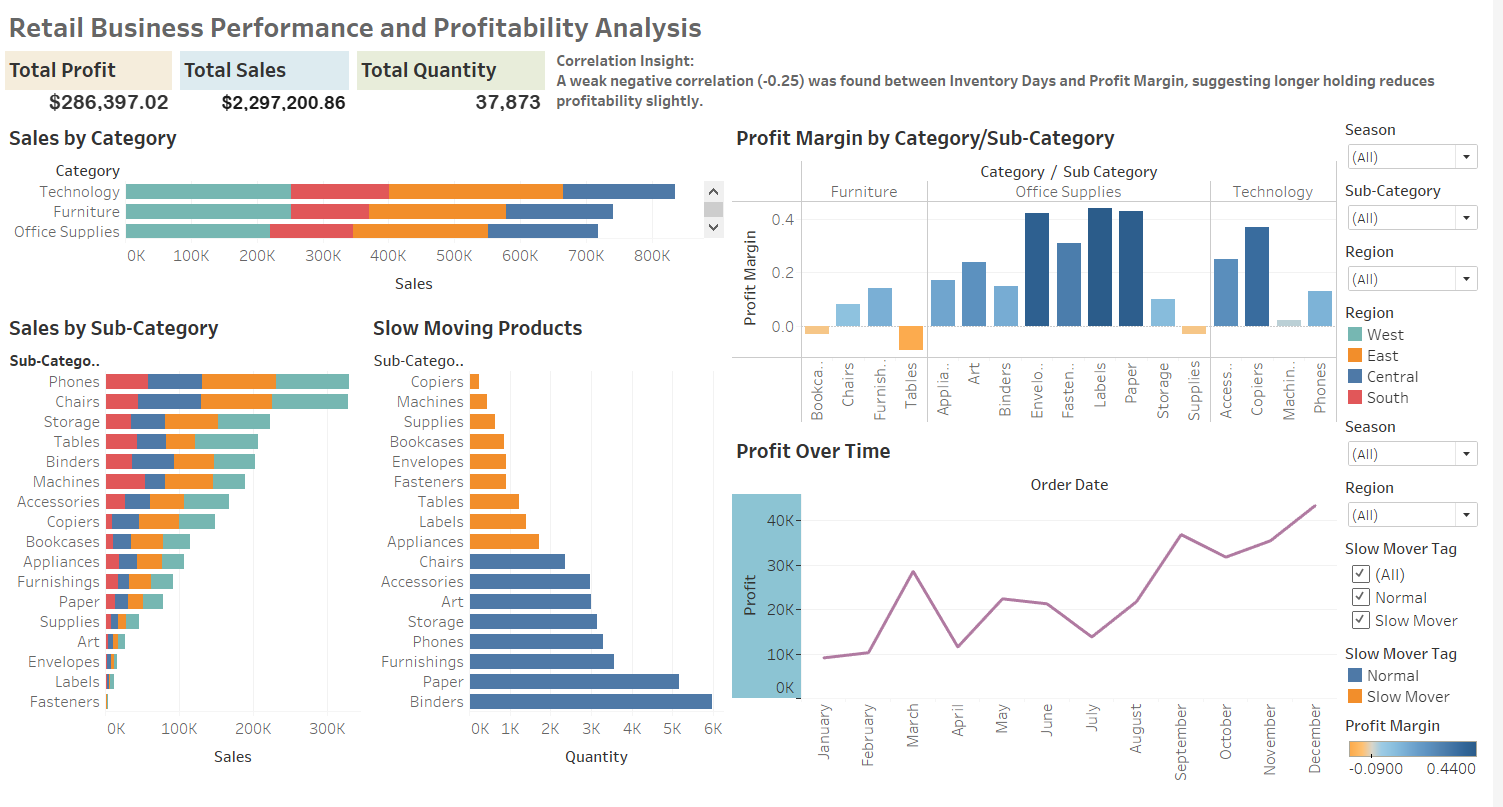

Layout of this report page (visuals, bound fields, positions):
{"tool":"tableau","page":{"name":"Dashboard 1","canvas":[1000,1000],"units":"permille","ordinal":0},"visuals":[{"type":"text","box":[5.3,9.8,989.3,50.5]},{"type":"worksheet","title":"Total Profit","mark":"Automatic","box":[5.3,60.3,116.7,83.8]},{"type":"worksheet","title":"Total Sales","mark":"Automatic","box":[122,60.3,118,83.8]},{"type":"worksheet","title":"Quantity","mark":"Automatic","box":[240,60.3,130.7,83.8]},{"type":"text","box":[370.7,60.3,624,83.8]},{"type":"worksheet","title":"Sales by Category","mark":"Automatic","rows":["Category"],"cols":["Sales"],"box":[5.3,144.1,484.7,234]},{"type":"worksheet","title":"Profit Margin by Sub-Category","mark":"Automatic","rows":["profit_margin"],"cols":["category","sub_category"],"box":[490,144.1,408.7,385.5]},{"type":"filter","title":"Sales by Sub-Category","param":"[federated.1psosv80t0t3wg1eq3ndm1r6bdvb].[none:Calculation_974466389773496320:nk","box":[898.7,144.1,96,75.1]},{"type":"filter","title":"Sales by Sub-Category","param":"[federated.1psosv80t0t3wg1eq3ndm1r6bdvb].[none:Sub-Category:nk]","box":[898.7,219.2,96,75.1]},{"type":"filter","title":"Sales by Sub-Category","param":"[federated.1psosv80t0t3wg1eq3ndm1r6bdvb].[none:Region:nk]","box":[898.7,294.3,96,75.1]},{"type":"legend","title":"Sales by Sub-Category","param":"[federated.1psosv80t0t3wg1eq3ndm1r6bdvb].[none:Region:nk]","box":[898.7,369.4,96,140.4]},{"type":"worksheet","title":"Sales by Sub-Category","mark":"Automatic","rows":["Sub-Category"],"cols":["Sales"],"box":[5.3,378,242.3,612.1]},{"type":"worksheet","title":"Slow Moving Products","mark":"Automatic","rows":["Sub-Category"],"cols":["Quantity"],"box":[247.7,378,242.3,612.1]},{"type":"filter","title":"Sales by Category","param":"[federated.1psosv80t0t3wg1eq3ndm1r6bdvb].[none:Calculation_974466389773496320:nk","box":[898.7,509.8,96,75.1]},{"type":"worksheet","title":"Profit Over Time","mark":"Automatic","rows":["Profit"],"cols":["Order Date"],"box":[490,529.6,408.7,460.6]},{"type":"filter","title":"Sales by Category","param":"[federated.1psosv80t0t3wg1eq3ndm1r6bdvb].[none:Region:nk]","box":[898.7,584.9,96,75.1]},{"type":"filter","title":"Slow Moving Products","param":"[federated.1psosv80t0t3wg1eq3ndm1r6bdvb].[usr:Calculation_817121880638484482:nk]","box":[898.7,660.1,96,129.3]},{"type":"legend","title":"Slow Moving Products","param":"[federated.1psosv80t0t3wg1eq3ndm1r6bdvb].[usr:Calculation_817121880638484482:nk]","box":[898.7,789.4,96,88.7]},{"type":"legend","title":"Profit Margin by Sub-Category","param":"[federated.0kukns71w0yqnh1c7faqa1tedoq8].[sum:profit_margin:qk]","box":[898.7,878,96,89.9]}]}

Visuals, with their boxes on the dashboard's canvas, which has no fixed pixel size, in thousandths of its width and height (x1, y1, x2, y2). These are canvas units, not pixel positions in the 1503x807 screenshot, which may show the page scaled, cropped or inside an application window:
text: <bbox>5, 10, 995, 60</bbox>
"Total Profit" worksheet: <bbox>5, 60, 122, 144</bbox>
"Total Sales" worksheet: <bbox>122, 60, 240, 144</bbox>
"Quantity" worksheet: <bbox>240, 60, 371, 144</bbox>
text: <bbox>371, 60, 995, 144</bbox>
"Sales by Category" worksheet: <bbox>5, 144, 490, 378</bbox>
"Profit Margin by Sub-Category" worksheet: <bbox>490, 144, 899, 530</bbox>
"Sales by Sub-Category" filter: <bbox>899, 144, 995, 219</bbox>
"Sales by Sub-Category" filter: <bbox>899, 219, 995, 294</bbox>
"Sales by Sub-Category" filter: <bbox>899, 294, 995, 369</bbox>
"Sales by Sub-Category" legend: <bbox>899, 369, 995, 510</bbox>
"Sales by Sub-Category" worksheet: <bbox>5, 378, 248, 990</bbox>
"Slow Moving Products" worksheet: <bbox>248, 378, 490, 990</bbox>
"Sales by Category" filter: <bbox>899, 510, 995, 585</bbox>
"Profit Over Time" worksheet: <bbox>490, 530, 899, 990</bbox>
"Sales by Category" filter: <bbox>899, 585, 995, 660</bbox>
"Slow Moving Products" filter: <bbox>899, 660, 995, 789</bbox>
"Slow Moving Products" legend: <bbox>899, 789, 995, 878</bbox>
"Profit Margin by Sub-Category" legend: <bbox>899, 878, 995, 968</bbox>
